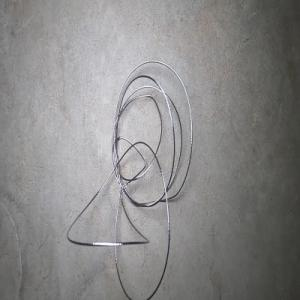Wire: (66, 59, 192, 300)
